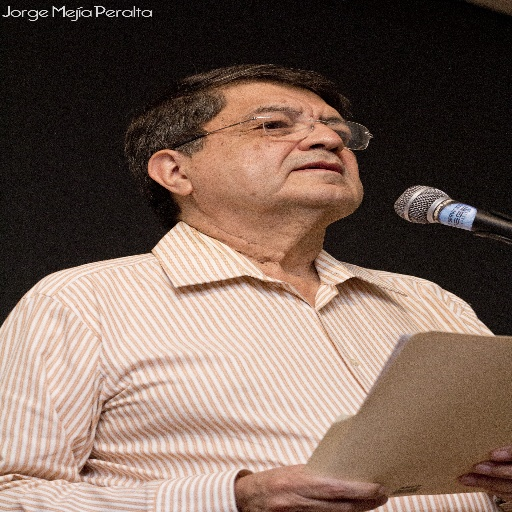hand: (230, 457, 405, 506), (457, 446, 511, 502)
